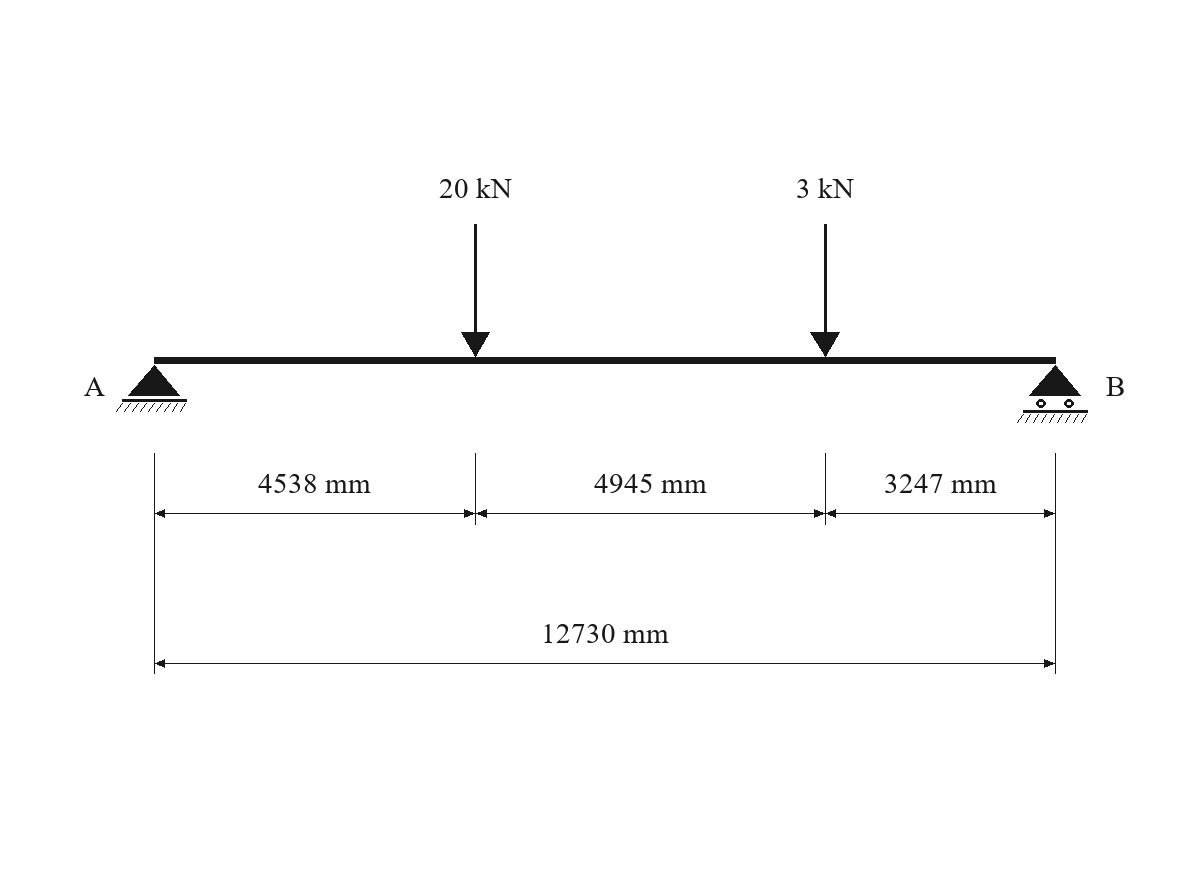pin_support: (116, 365, 187, 412)
point_load: (810, 224, 840, 357), (461, 224, 490, 357)
roller_support: (1017, 365, 1088, 423)
